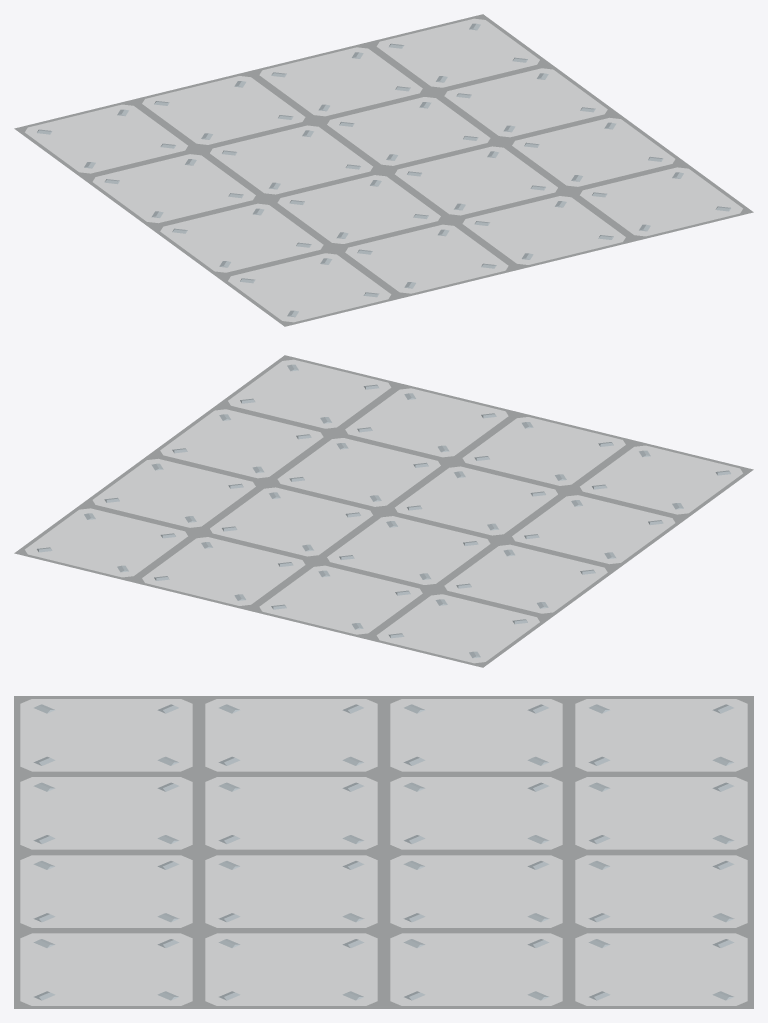
Rendered from Floor_type_A_006.fbx.
The picture shows the model from 3 angles, top to bottom: view 1: azimuth 30°, elevation 25°; view 2: azimuth 150°, elevation 25°; view 3: azimuth 270°, elevation 25°; orthographic projection. The views are drawn at different scales.
Parts seen in each view (by area): view 1: Floor_type_A_006; view 2: Floor_type_A_006; view 3: Floor_type_A_006.
Part boxes in pixels (x1,y1,x2,y2): Floor_type_A_006: (14, 14, 753, 326); Floor_type_A_006: (14, 355, 753, 667); Floor_type_A_006: (14, 696, 753, 1008).
Bounding box in the file's own units: 400 × 400 × 0.8.
